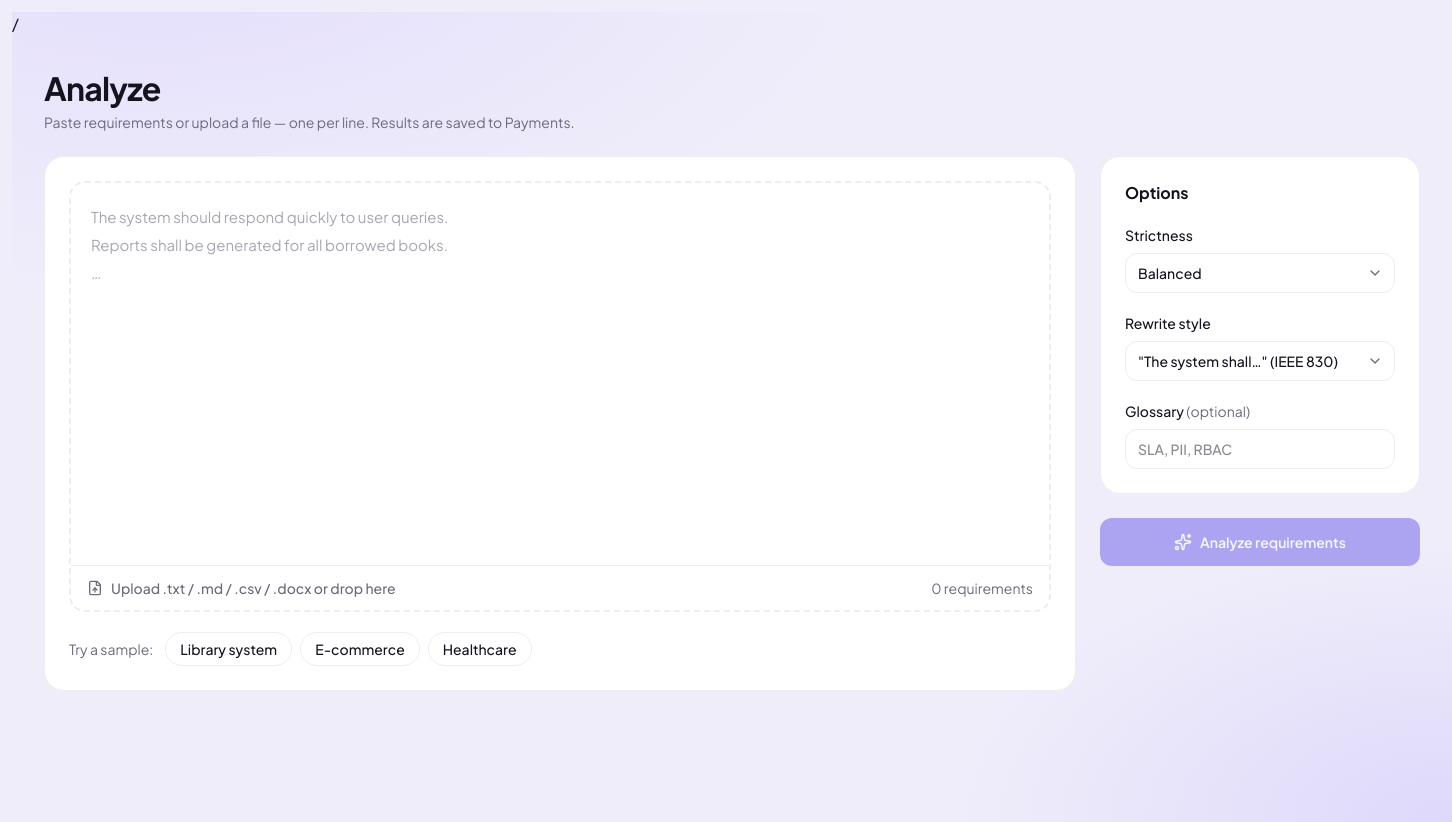
Test: Analyze page › fills the text area from a sample chip and says where results are saved
Click the button "Healthcare": [480, 649] box [428,632,532,666]
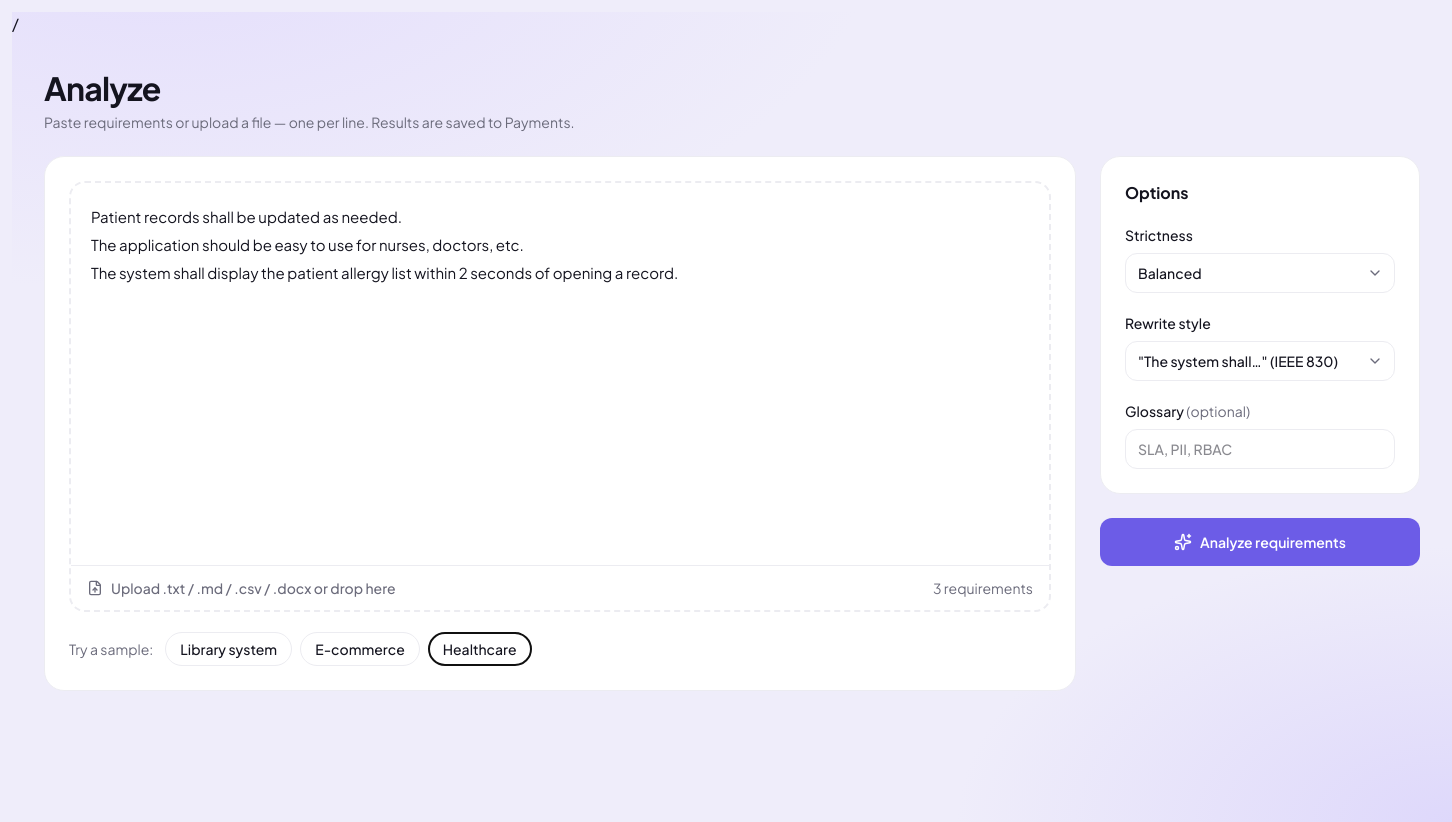
expect the text "saved to Payments" is shown: met, box [44,113,574,131]
expect the text "3 requirements" is shown: met, box [933,578,1033,598]
